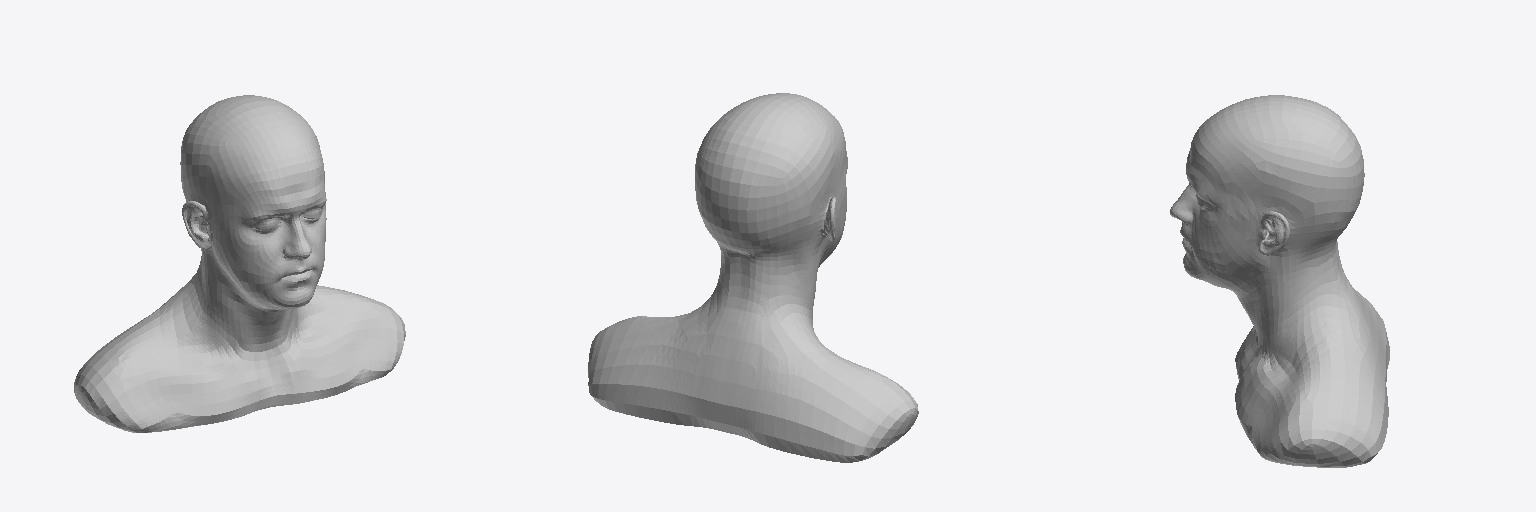
The model's file is head_subdivided.obj.
The picture shows the model from 3 angles: view 1: azimuth 30°, elevation 25°; view 2: azimuth 150°, elevation 25°; view 3: azimuth 270°, elevation 25°; orthographic projection.
Parts seen in each view (by area): view 1: Group2.001, Group19.001, Group14.001, Group4.001, Group5.001; view 2: Group2.001, Group4.001, Group19.001, Group5.001; view 3: Group2.001, Group19.001, Group14.001, Group4.001, Group5.001.
Part boxes in pixels (x1,y1,x2,y2): Group2.001: (76, 95, 403, 432); Group19.001: (205, 144, 326, 277); Group14.001: (214, 236, 325, 309); Group4.001: (74, 315, 405, 432); Group5.001: (182, 194, 213, 249); Group2.001: (588, 93, 914, 455); Group4.001: (588, 331, 918, 462); Group19.001: (829, 112, 847, 218); Group5.001: (817, 187, 835, 240); Group2.001: (1210, 95, 1389, 459); Group19.001: (1170, 116, 1266, 244); Group14.001: (1182, 226, 1264, 288); Group4.001: (1265, 429, 1377, 467); Group5.001: (1254, 203, 1296, 255).
Size of the model in its own units: 0.4533 by 0.4211 by 0.2746.